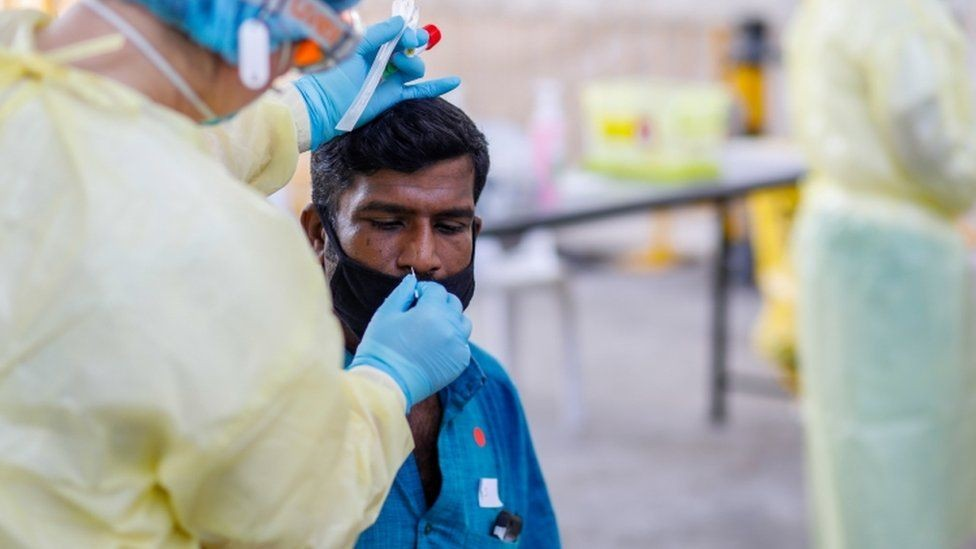Gloves: (290, 17, 465, 156), (344, 275, 477, 417)
mask_weared_incorrect: (340, 154, 479, 366)
